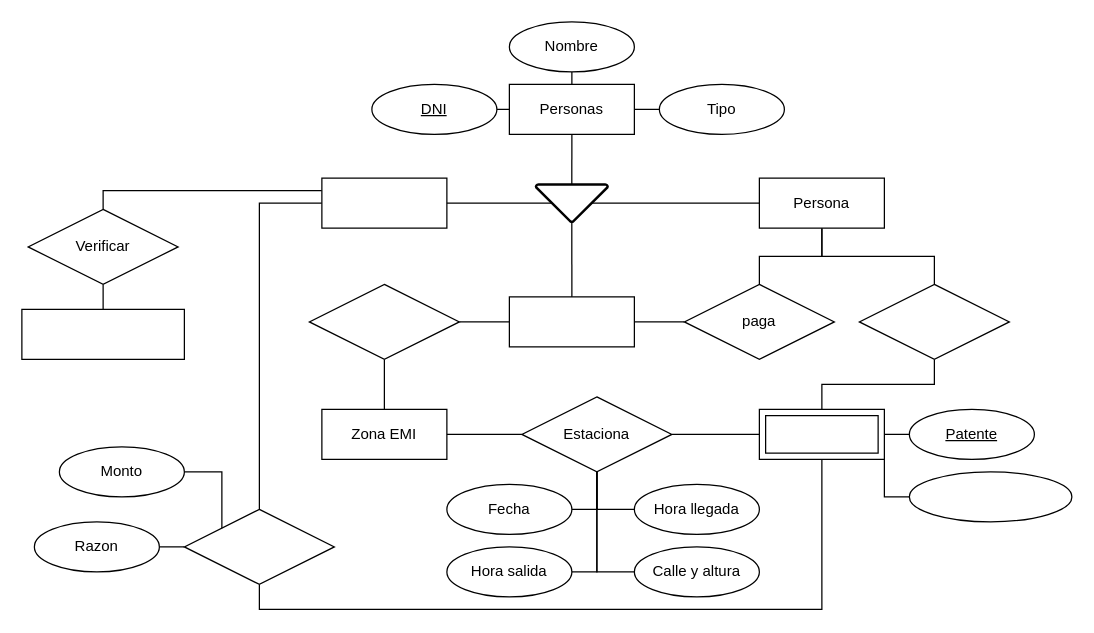
The diagram is 1094 pixels wide and 633 high, and some of its shapes have lost their labels. Here are the shapes that lost their labels. From the top down, the centre of each, then its label:
At (x=384, y=202): "Inspector".
At (x=102, y=333): "PatentesRegistradas".
At (x=383, y=321): "Trabaja".
At (x=571, y=321): "Encargado Municipal".
At (x=933, y=321): "Tiene".
At (x=821, y=433): "auto".
At (x=990, y=496): "InscriptoEnAutomotor".
At (x=258, y=546): "Multar".
